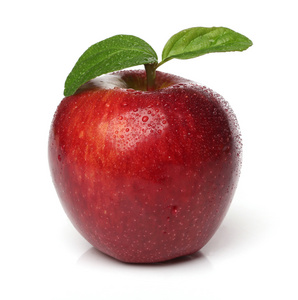apple: (48, 70, 242, 265)
